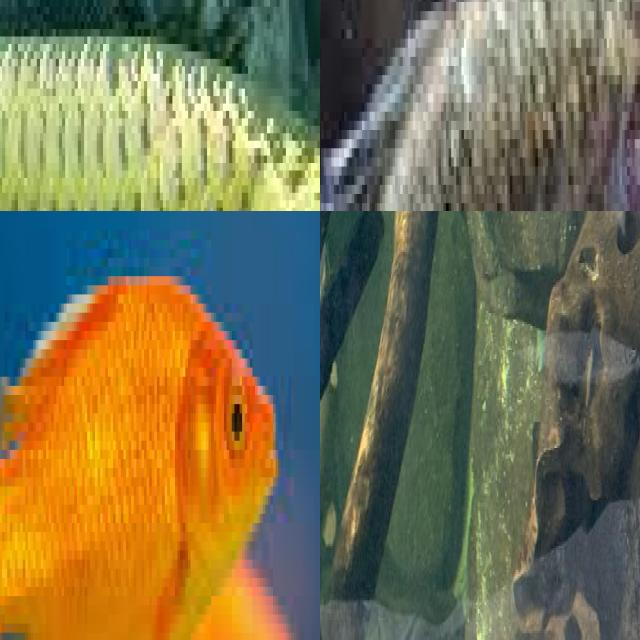fish: (0, 211, 320, 640), (0, 0, 320, 211), (501, 211, 640, 640), (405, 0, 640, 211)
